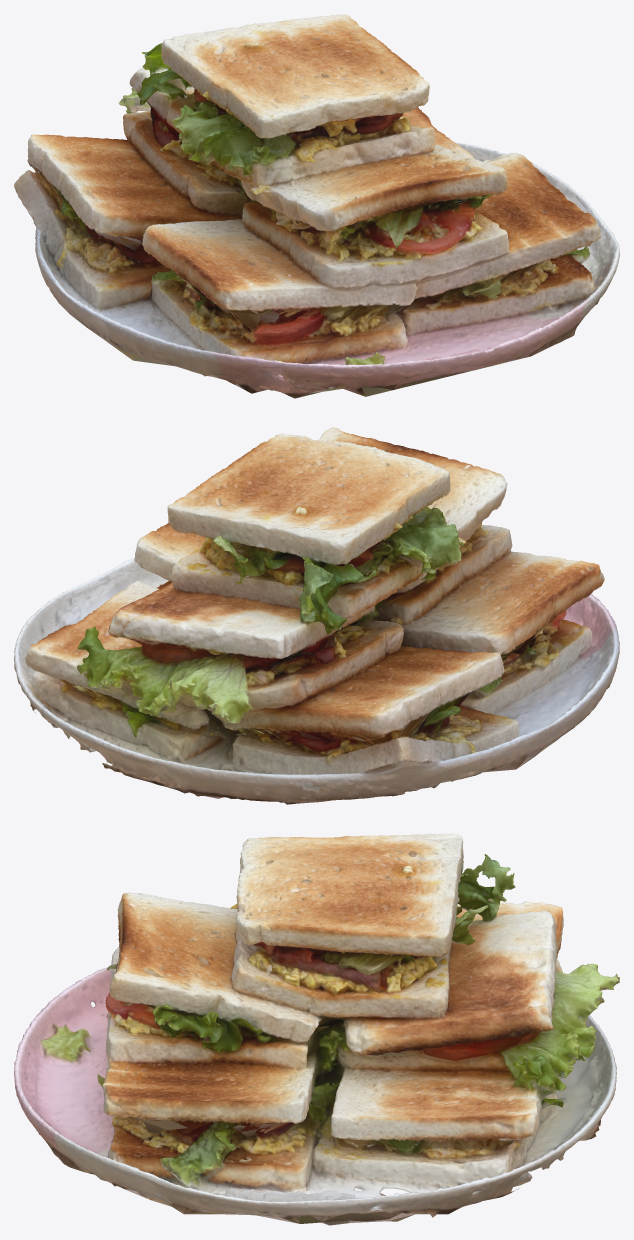
3 views of the same model, one above another, from view 1: azimuth 30°, elevation 25°; view 2: azimuth 150°, elevation 25°; view 3: azimuth 270°, elevation 25° (orthographic). The views are drawn at different scales.
Parts seen in each view (by area): view 1: Object_7, Object_3, Object_5, Object_6, Object_8, Object_4, Object_2; view 2: Object_4, Object_5, Object_3, Object_2, Object_6, Object_7, Object_8; view 3: Object_3, Object_2, Object_4, Object_6, Object_7, Object_8, Object_5.
Part boxes in pixels (x1=…): Object_7: x1=194, y1=49, x2=603, y2=398; Object_3: x1=87, y1=14, x2=600, y2=311; Object_5: x1=14, y1=16, x2=619, y2=392; Object_6: x1=24, y1=19, x2=618, y2=398; Object_8: x1=182, y1=48, x2=598, y2=277; Object_4: x1=29, y1=17, x2=375, y2=215; Object_2: x1=23, y1=107, x2=585, y2=362; Object_4: x1=77, y1=485, x2=441, y2=716; Object_5: x1=14, y1=494, x2=619, y2=798; Object_3: x1=64, y1=427, x2=599, y2=802; Object_2: x1=14, y1=581, x2=541, y2=804; Object_6: x1=134, y1=460, x2=619, y2=782; Object_7: x1=134, y1=429, x2=580, y2=646; Object_8: x1=134, y1=452, x2=507, y2=583; Object_3: x1=102, y1=833, x2=614, y2=1152; Object_2: x1=93, y1=901, x2=616, y2=1224; Object_4: x1=342, y1=833, x2=611, y2=1087; Object_6: x1=14, y1=837, x2=559, y2=1193; Object_7: x1=14, y1=881, x2=347, y2=1213; Object_8: x1=103, y1=836, x2=348, y2=1122; Object_5: x1=14, y1=875, x2=619, y2=1225.
Bounding box in the file's own units: 0.27 × 0.1108 × 0.2719.
1 material, 1 textured.
